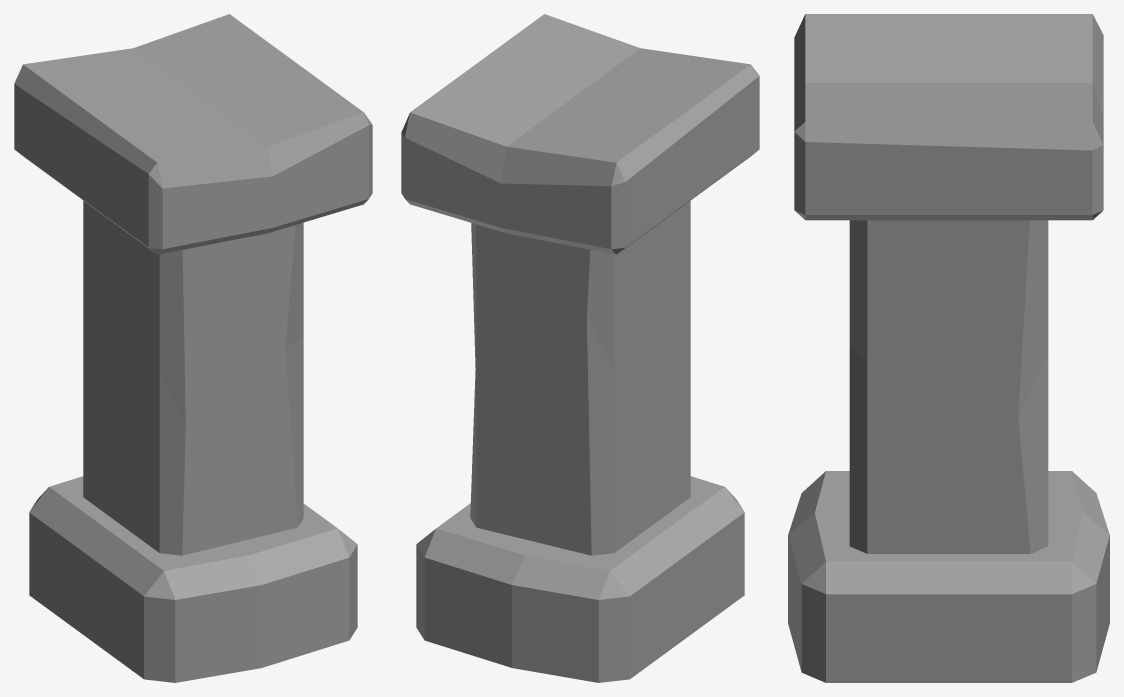
The model's file is Isl_1_Post_2.fbx.
The picture shows the model from 3 angles, left to right: view 1: azimuth 30°, elevation 25°; view 2: azimuth 150°, elevation 25°; view 3: azimuth 270°, elevation 25°; orthographic projection. The views are drawn at different scales.
Visible parts, largest first — view 1: Isl_1_Post_2; view 2: Isl_1_Post_2; view 3: Isl_1_Post_2.
Boxes of the visible parts, x1,y1,x2,y2 form: Isl_1_Post_2: (14, 14, 372, 682); Isl_1_Post_2: (401, 14, 759, 682); Isl_1_Post_2: (788, 14, 1109, 682).
Bounding box in the file's own units: 122 × 142 × 272.
1 material, 1 textured.
